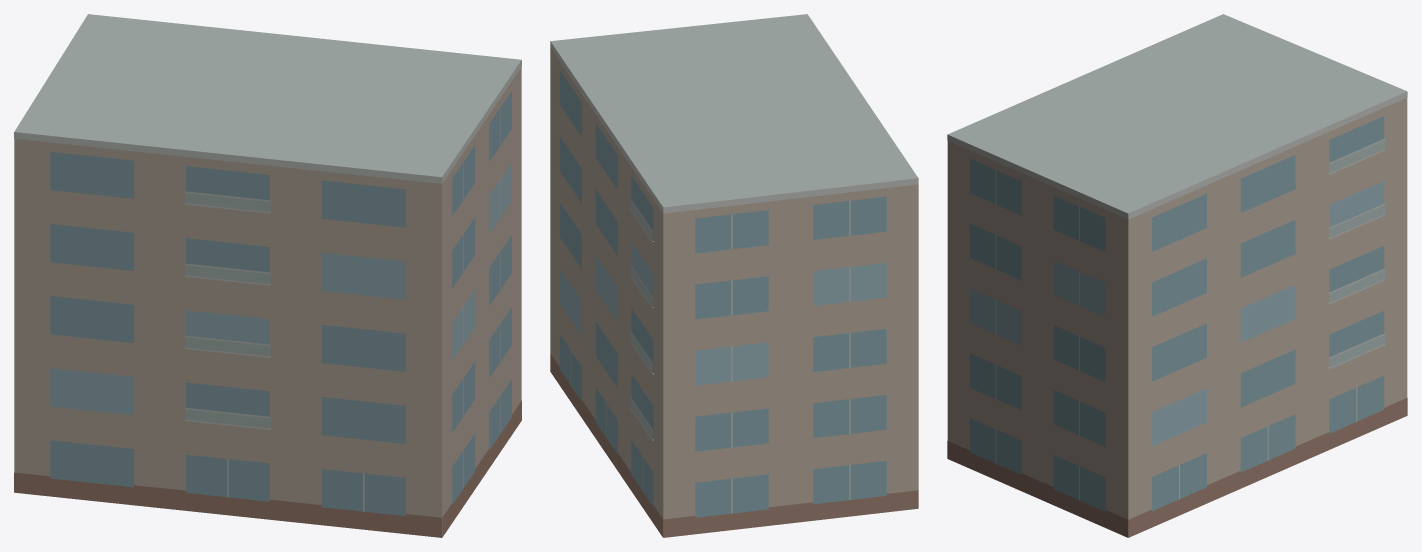
Rendered from survey-upis-32842755.glb.
3 renders of one model, left to right at view 1: azimuth 30°, elevation 25°; view 2: azimuth 150°, elevation 25°; view 3: azimuth 270°, elevation 25°, orthographic. The views are drawn at different scales.
Visible parts, largest first — view 1: survey-upis-32842755.tmp; view 2: survey-upis-32842755.tmp; view 3: survey-upis-32842755.tmp.
Part boxes in pixels (bbox=[...]): survey-upis-32842755.tmp: bbox=[14, 14, 521, 537]; survey-upis-32842755.tmp: bbox=[550, 14, 918, 537]; survey-upis-32842755.tmp: bbox=[947, 14, 1407, 537].
Bounding box in the file's own units: 17.3 × 13.1 × 16.85.
